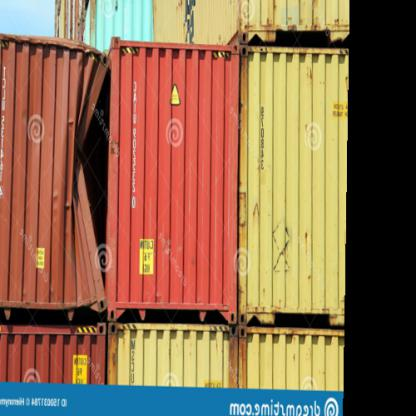Damage: (62, 48, 132, 278)
